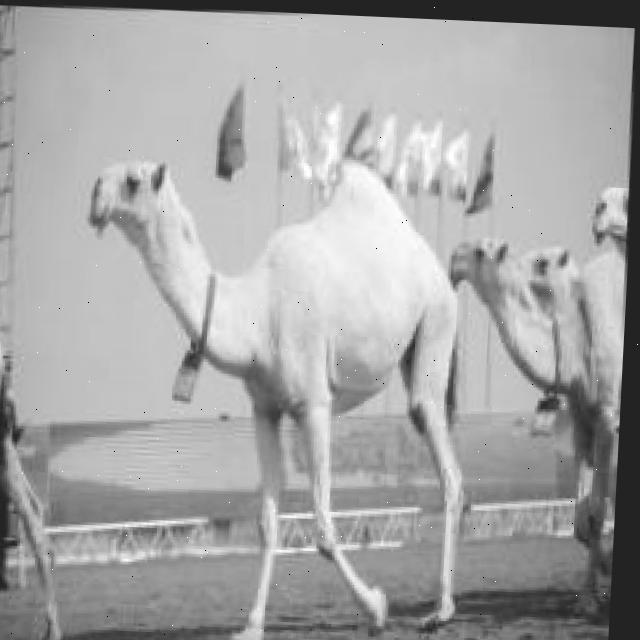Camel: (63, 143, 486, 640), (428, 175, 629, 623), (0, 293, 78, 640)
